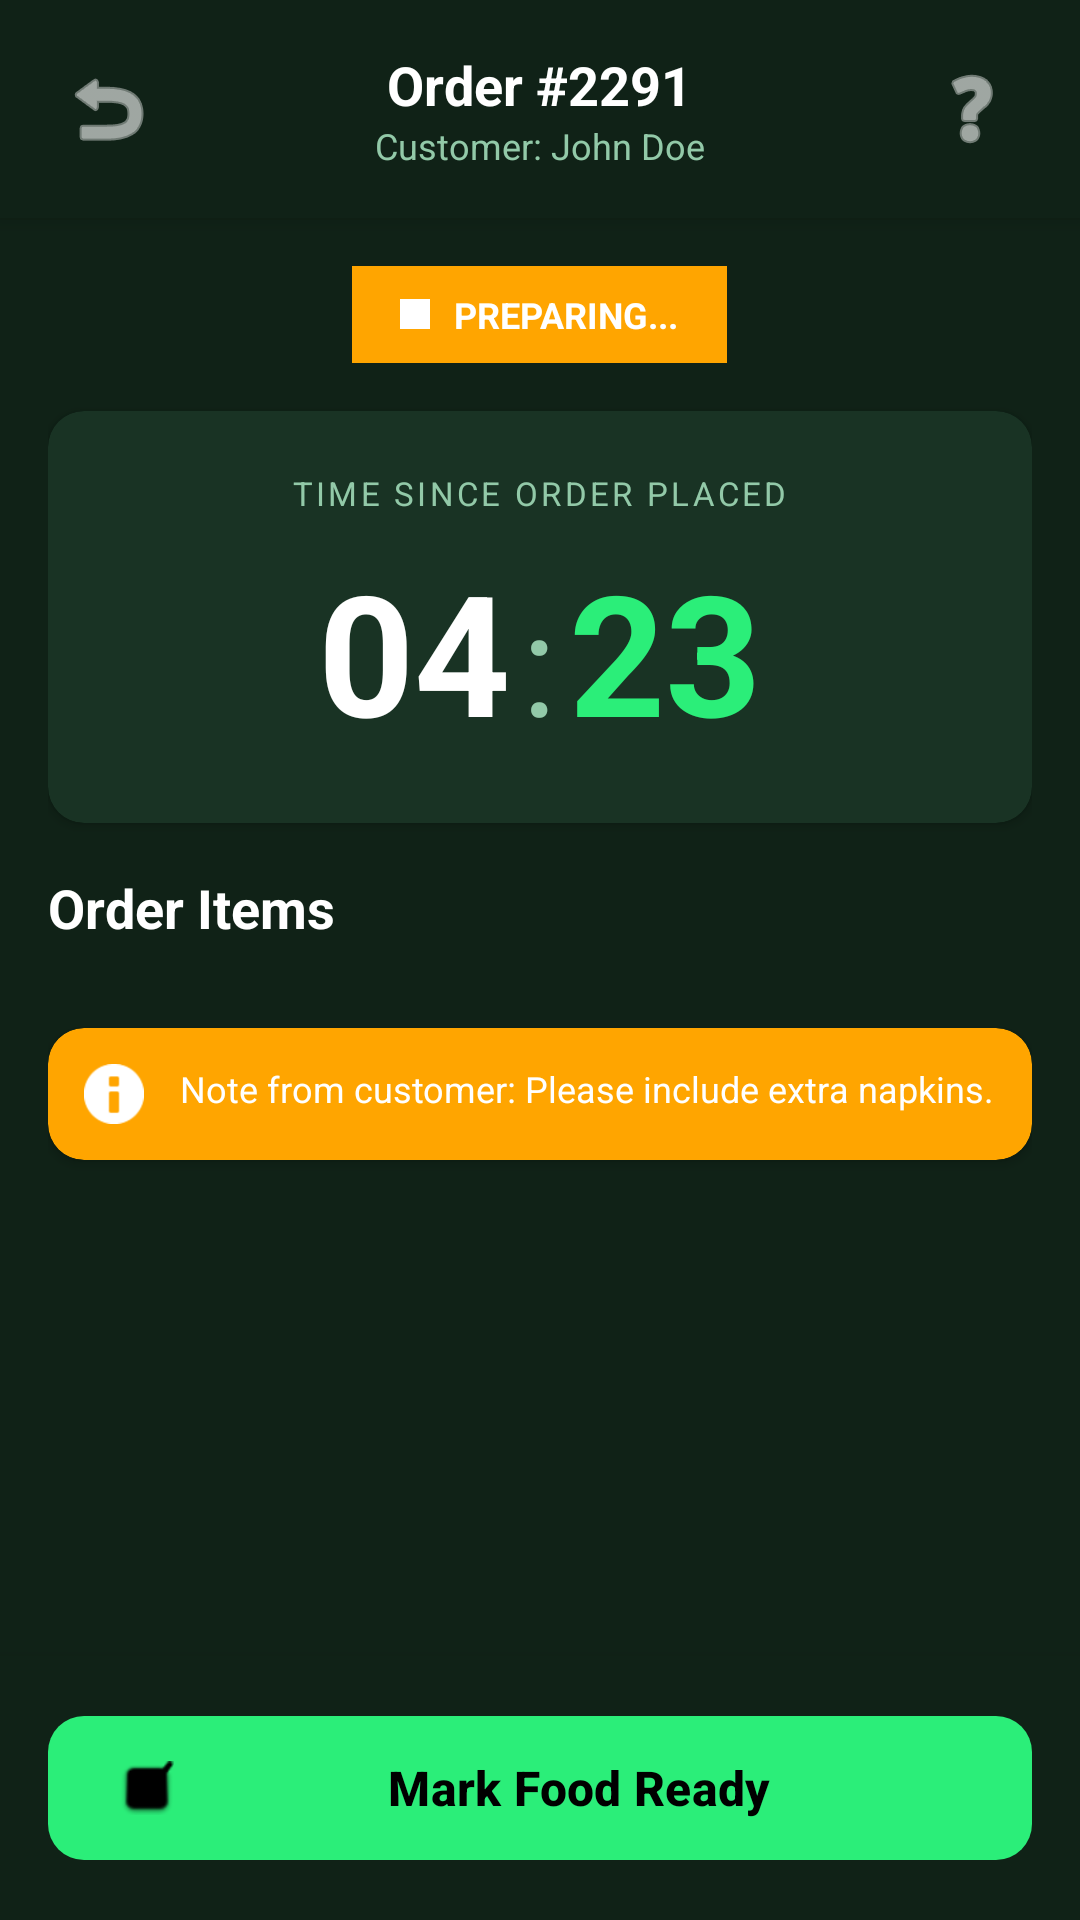

Icon bounding boxes for this 1080 × 1920 phone screenshot, format (left=x1, top=y1, right=x2, bottom=y2):
help: (left=951, top=75, right=993, bottom=143)
info: (left=84, top=1064, right=144, bottom=1124)
revert: (left=75, top=78, right=144, bottom=141)
